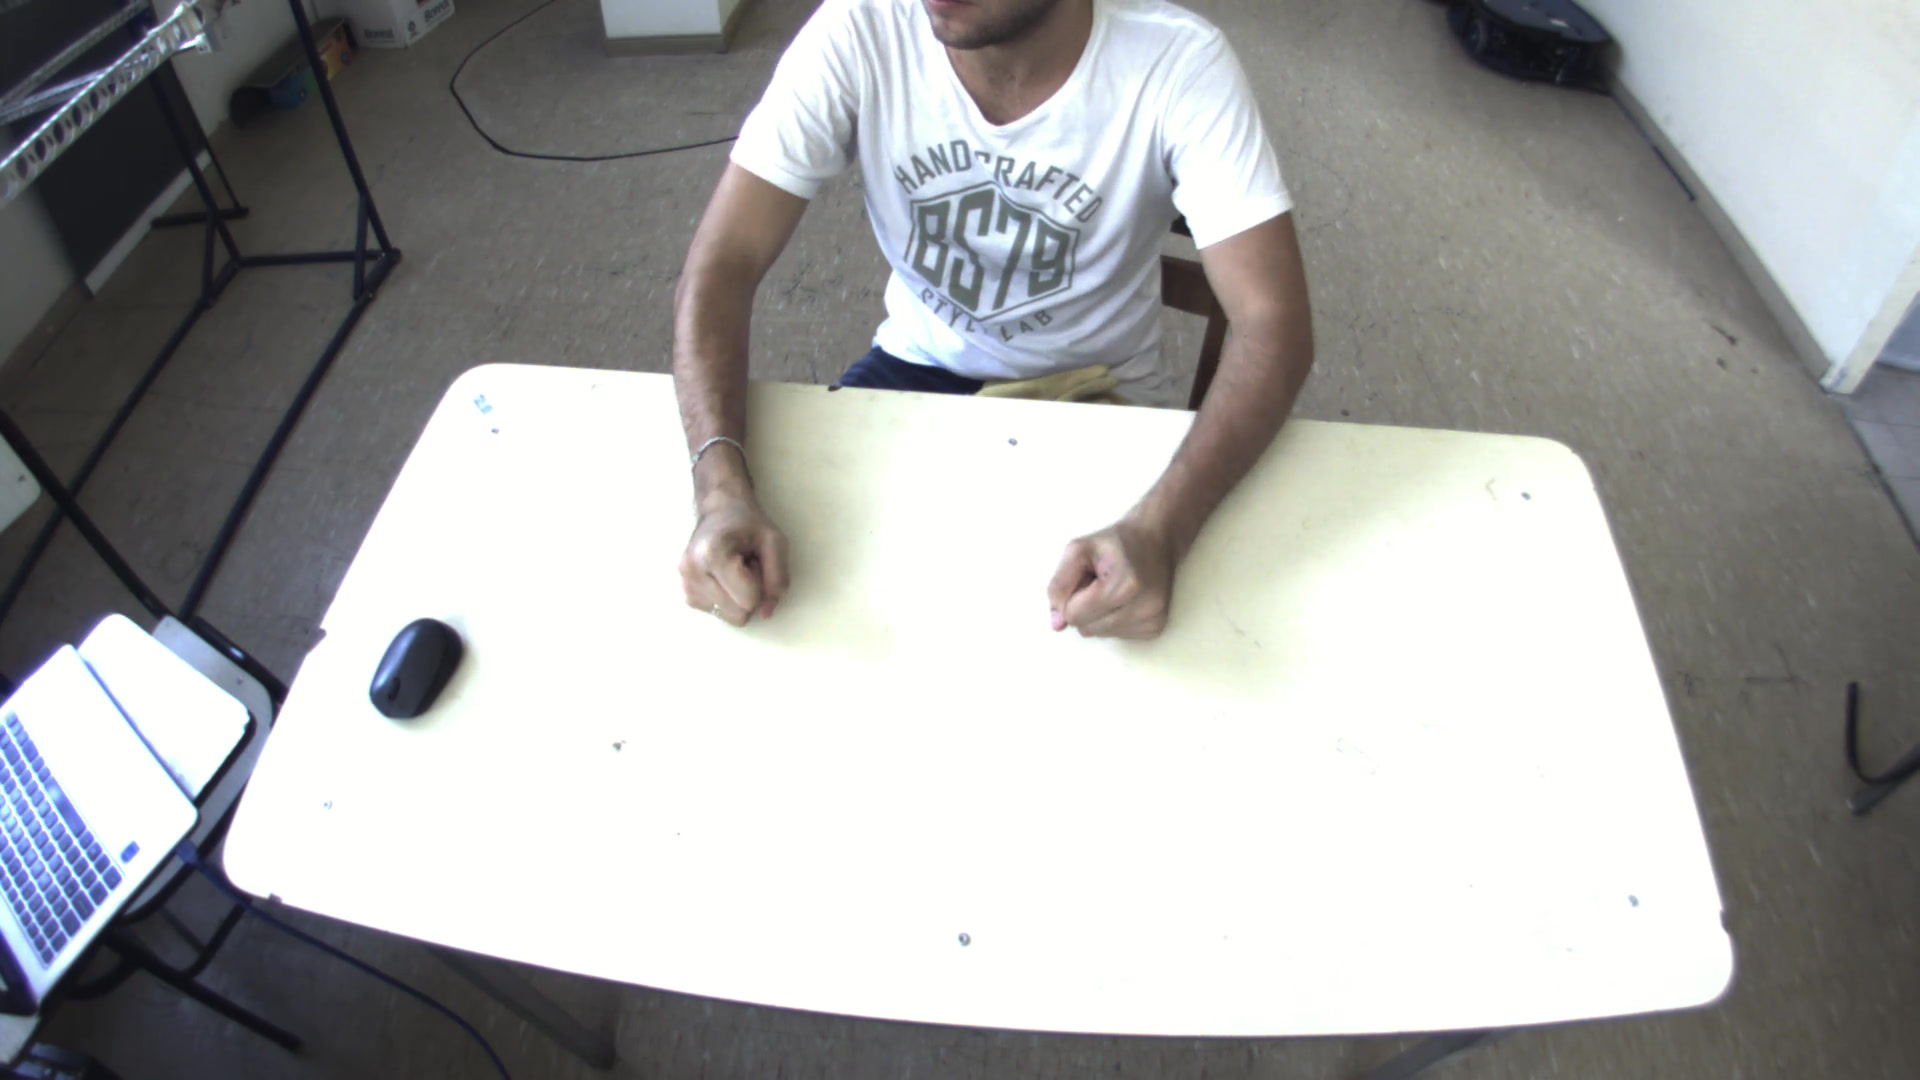hand: (1036, 512, 1189, 644), (667, 480, 795, 632)
